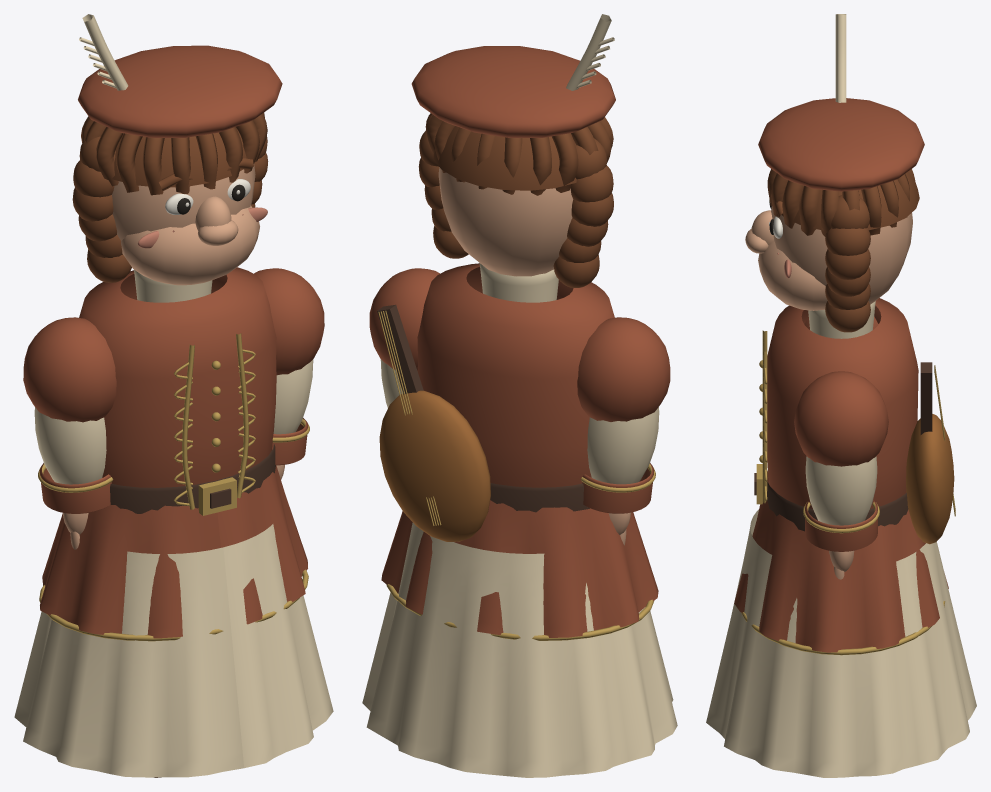
The model's file is bard.glb.
3 renders of one model, left to right at view 1: azimuth 30°, elevation 25°; view 2: azimuth 150°, elevation 25°; view 3: azimuth 270°, elevation 25°, orthographic. The views are drawn at different scales.
Parts seen in each view (by area): view 1: Velvet bard (×4), Ivory woven cloth (×4), Hair bard, Skin bard (×2), Antique brass, Leather, Eye white; view 2: Velvet bard (×4), Ivory woven cloth (×4), Hair bard, Lute wood, Skin bard, Leather (×2), Antique brass (×2); view 3: Velvet bard (×3), Ivory woven cloth (×3), Hair bard, Skin bard (×2), Lute wood, Leather (×2), Antique brass.
Part boxes in pixels (x1,y1,x2,y2): Velvet bard (×4): (23, 45, 324, 638); Ivory woven cloth (×4): (14, 14, 333, 777); Hair bard: (72, 112, 268, 282); Skin bard (×2): (63, 164, 259, 549); Antique brass: (39, 333, 308, 641); Leather: (110, 444, 275, 513); Eye white: (165, 179, 250, 214); Velvet bard (×4): (369, 46, 670, 637); Ivory woven cloth (×4): (362, 14, 677, 777); Hair bard: (418, 113, 613, 287); Lute wood: (379, 390, 490, 541); Skin bard: (438, 167, 573, 276); Leather (×2): (377, 304, 589, 512); Antique brass (×2): (378, 310, 654, 640); Velvet bard (×3): (734, 98, 948, 652); Ivory woven cloth (×3): (706, 14, 976, 777); Hair bard: (767, 169, 919, 332); Skin bard (×2): (745, 206, 912, 579); Lute wood: (906, 414, 954, 544); Leather (×2): (754, 362, 932, 531); Antique brass: (741, 330, 945, 655).
Size of the model in its own units: 0.9384 by 2.34 by 0.8283.
